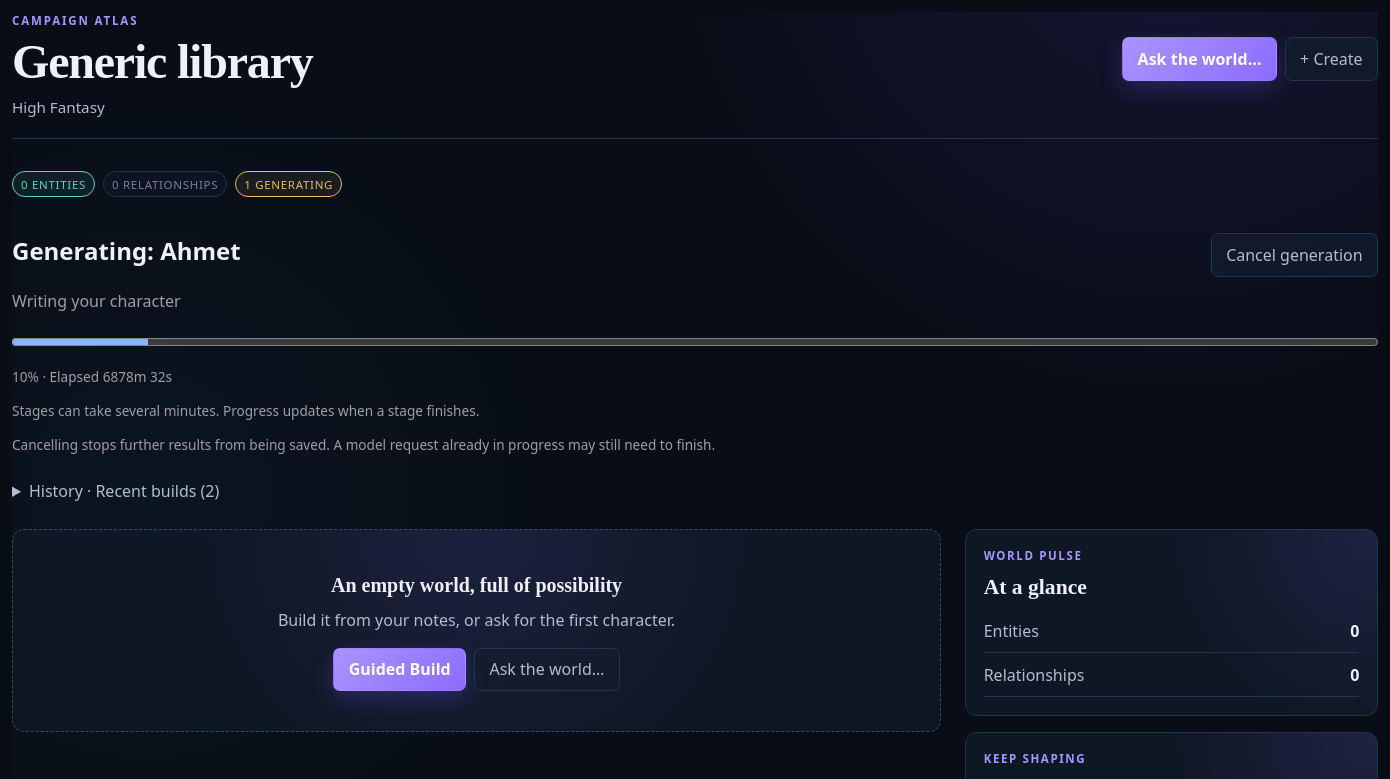
Test: Generic library build activity › shows character, stage, failures, and cancel on the overview page
Expected: the element with class "generation-status" shows "Generating: Ahmet", [12,234,241,267]
Expected: the element with class "generation-status" shows "Writing your character", [12,290,181,312]
Click the button "Cancel generation" at (1294, 255), box [1211,233,1378,277]
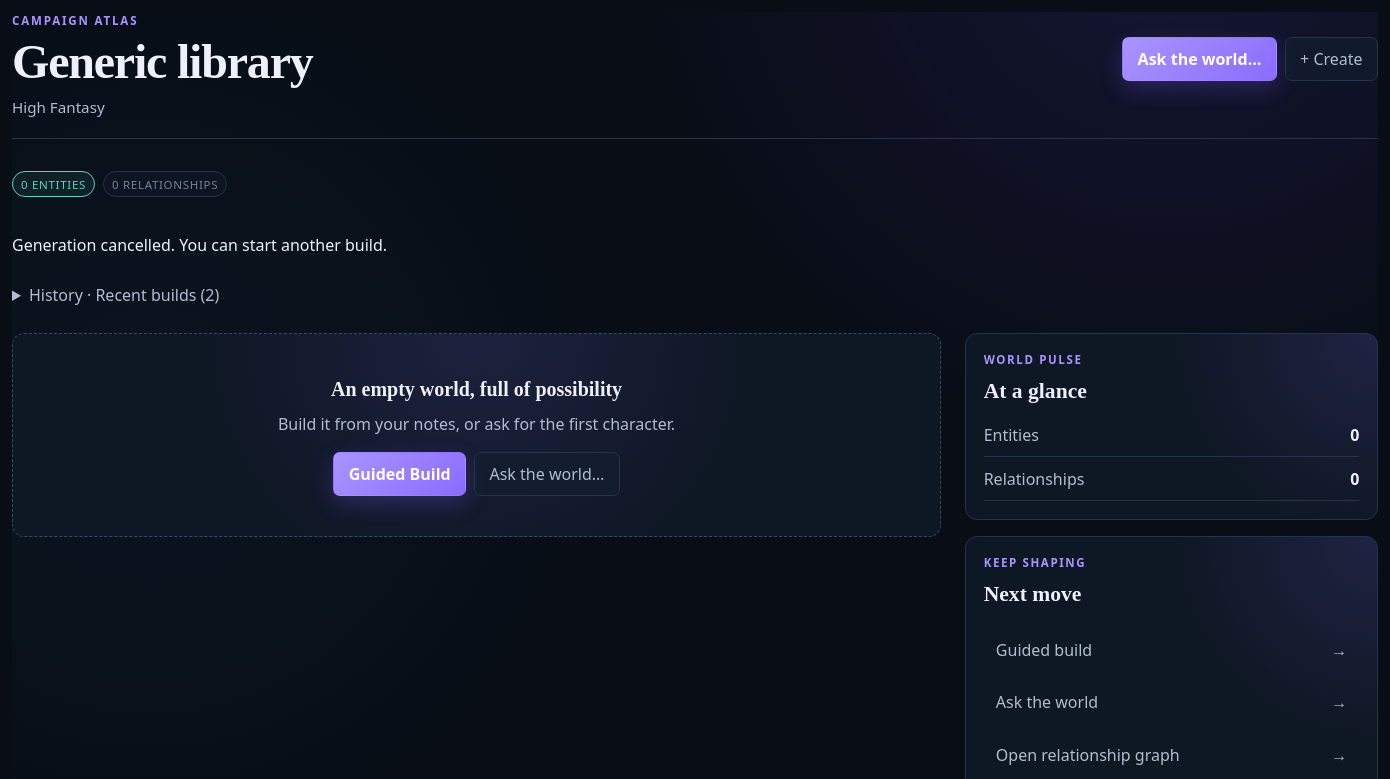
Now the text "Generation cancelled." is shown, box [12,234,387,256]
